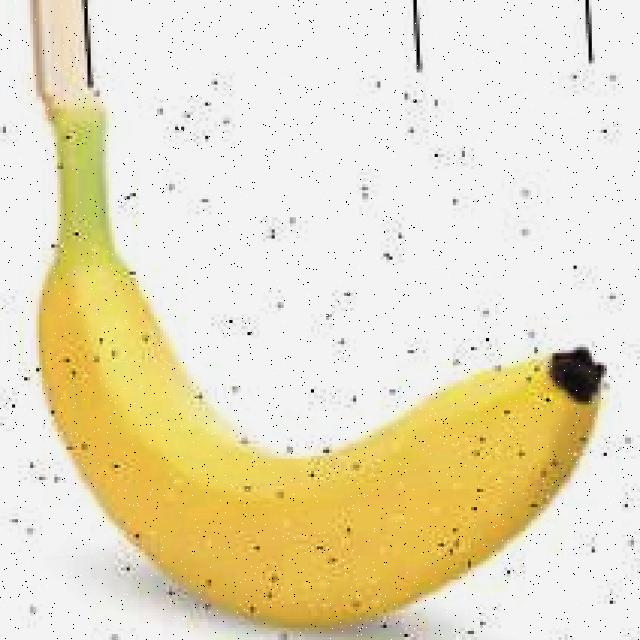banana: (12, 87, 631, 640)
